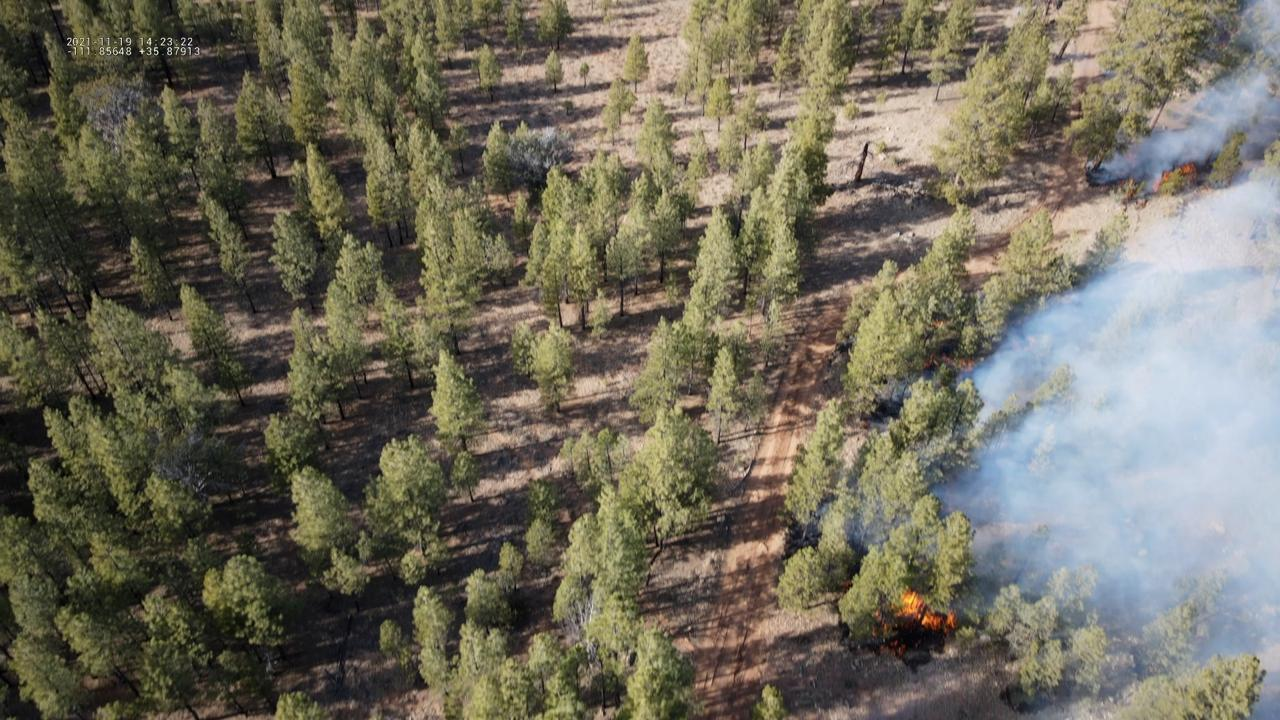fire: (869, 588, 957, 659), (940, 351, 978, 372), (1151, 169, 1170, 193), (1180, 160, 1197, 186), (920, 351, 937, 369), (930, 319, 945, 329)
smoke: (795, 0, 1280, 720)
